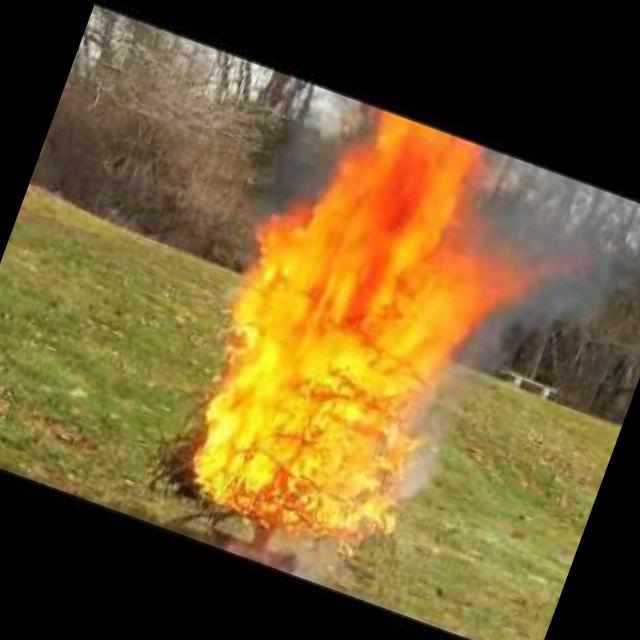fire: (162, 102, 542, 573)
